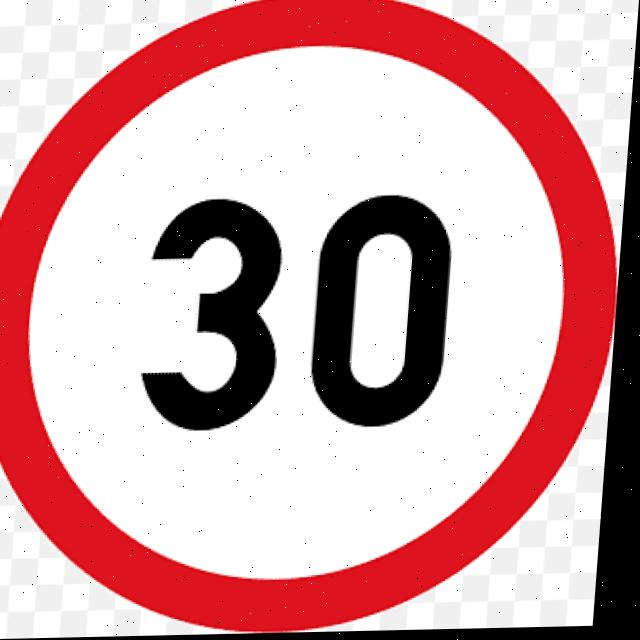Speed limit 30: (1, 1, 639, 639)
